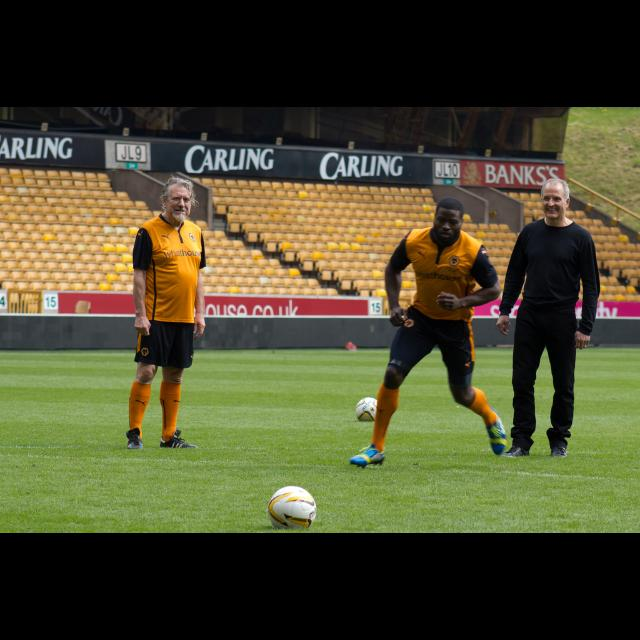Football: (264, 486, 318, 530), (352, 394, 380, 420)
